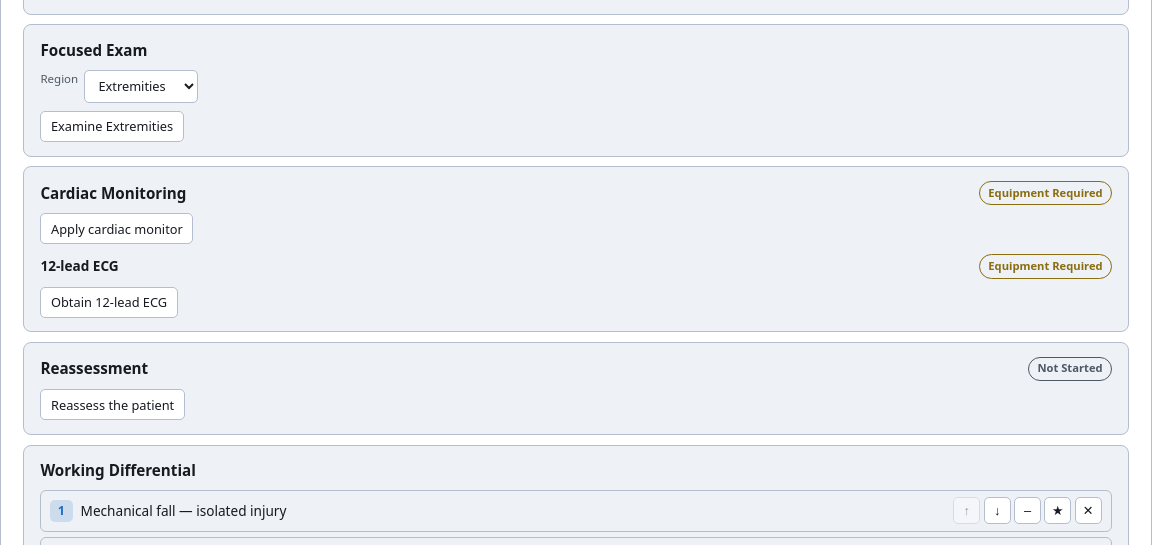
Test: ClinicalPanel — crew integration & reasoning (§19) › shows deterioration only on reassessment
(page scrolled)
Expected: the text "more lightheaded" is not shown
Click the button "Reassess the patient": [113, 405] box [40,389,185,420]
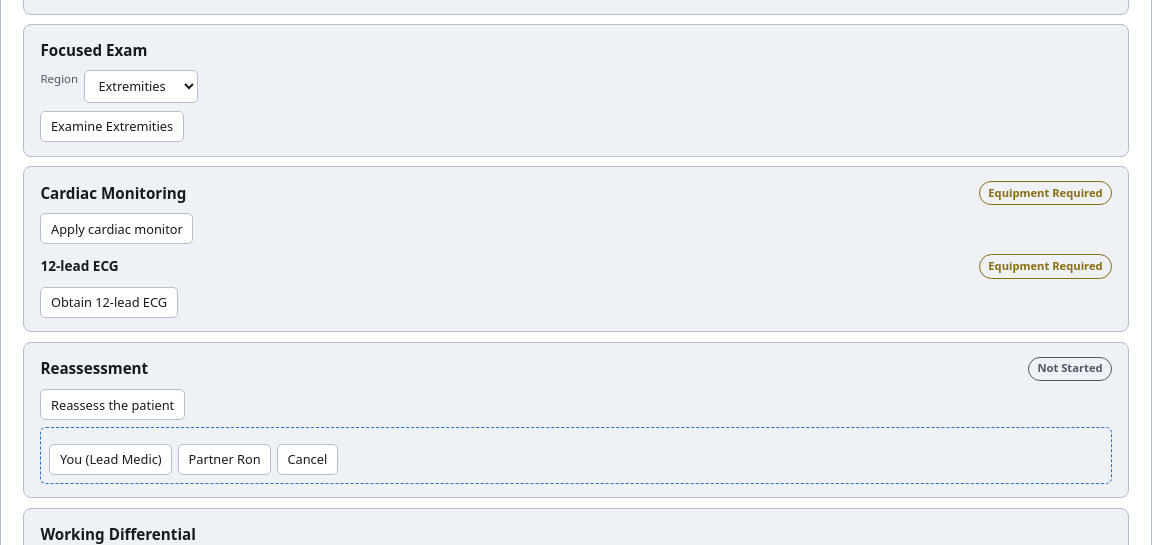
Click the button "Partner Ron": [225, 459] box [178,444,271,475]
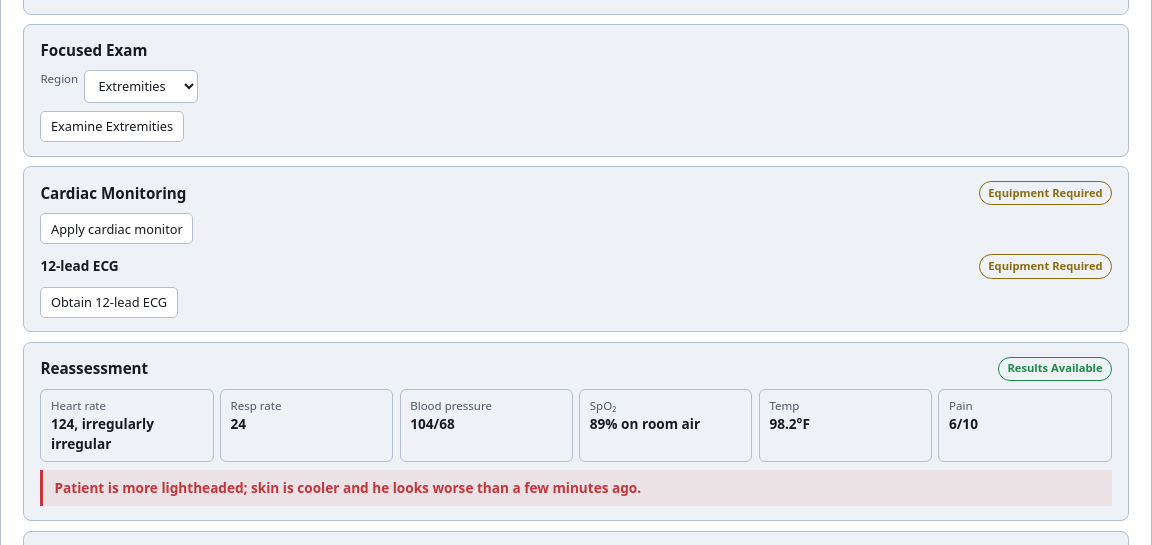
Expected: the text "more lightheaded" is shown, [55,478,641,497]
